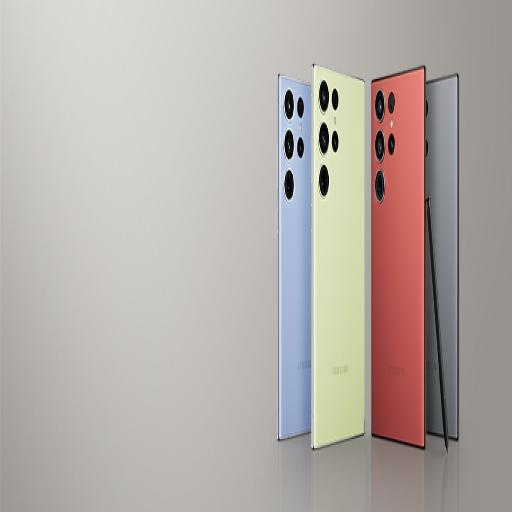phone: (309, 58, 365, 458)
